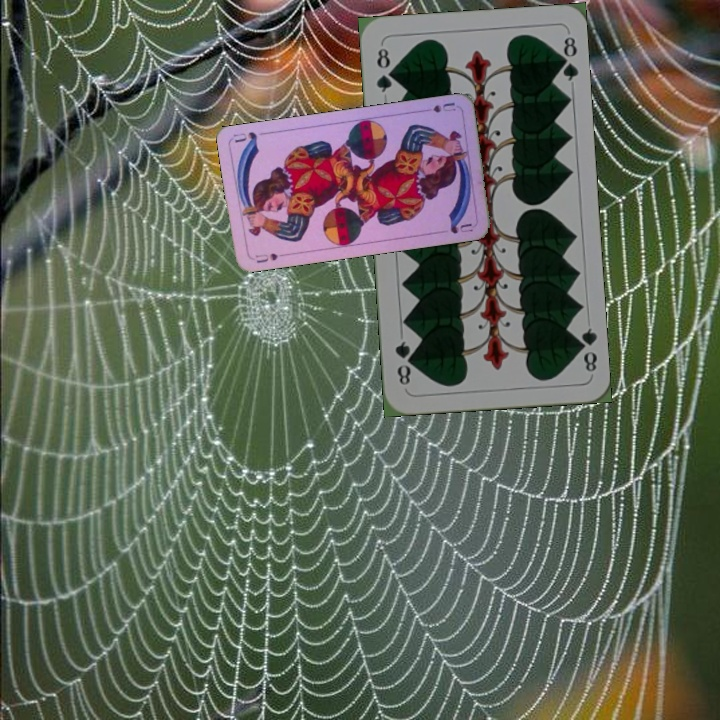G8: (572, 324, 600, 374), (372, 44, 396, 95)
SU: (417, 98, 458, 115), (251, 249, 288, 265)
